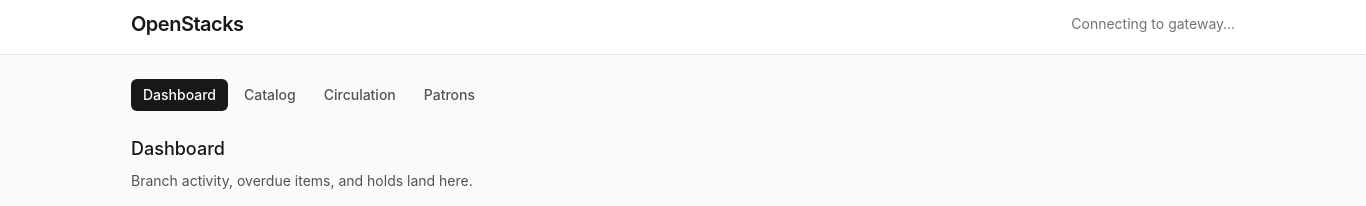
Test: App › switches section content when a tab is selected
Click the tab "Circulation": (360, 95) [312,79,408,111]
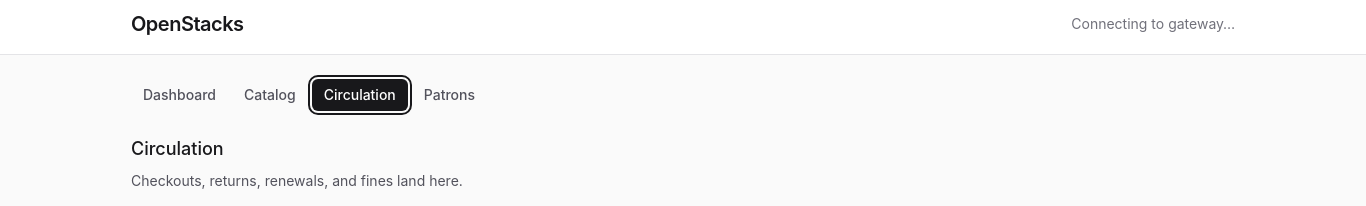
Check: the text "Checkouts, returns, renewals, and fines land here." is shown, box [131,172,463,189]
